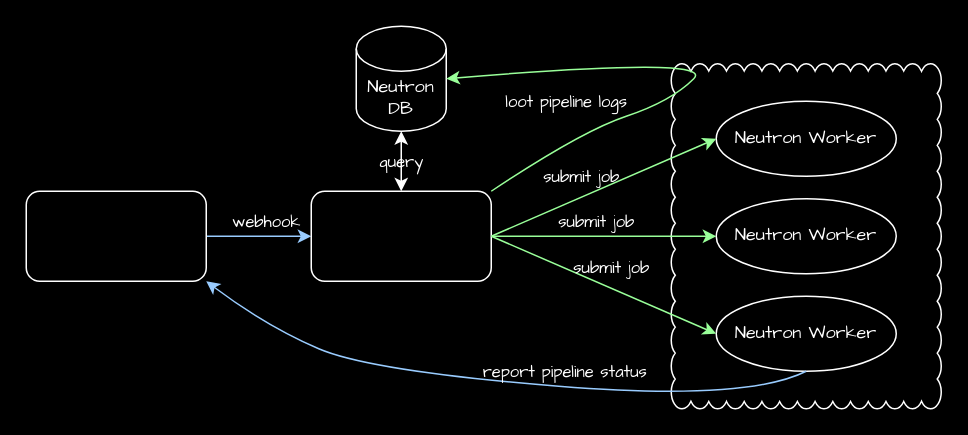
The diagram is 968 pixels wide and 435 high, and some of its shapes have lost their labels. Here are the shapes that lost their labels. From the top down, the centre of each, then its label:
At (x=115, y=235): "Code Base".
At (x=400, y=235): "Neutron Api Server".
